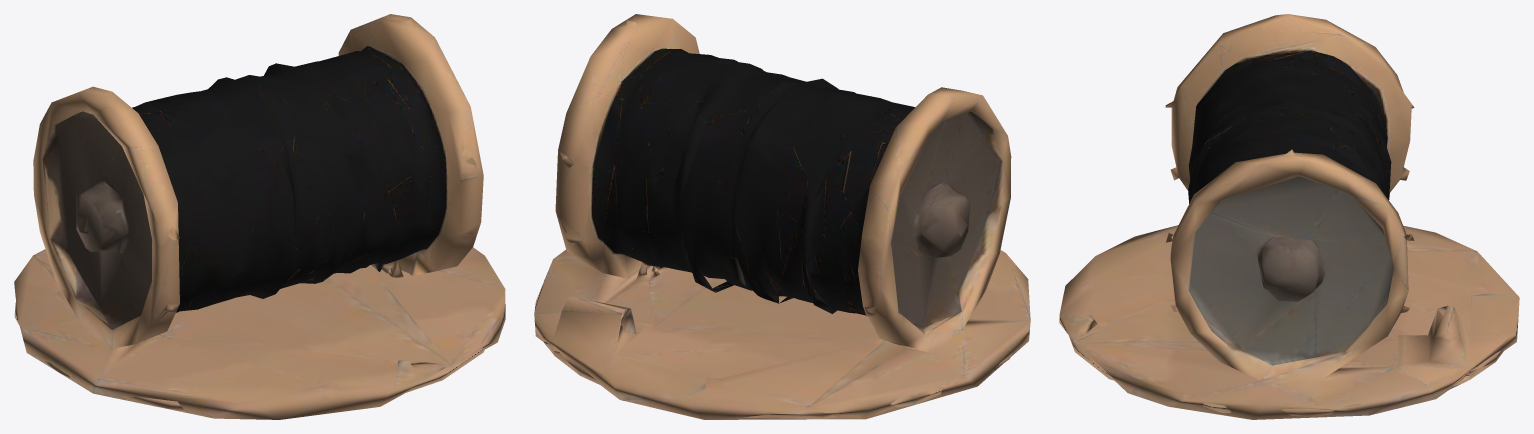
The picture shows the model from 3 angles, left to right: view 1: azimuth 30°, elevation 25°; view 2: azimuth 150°, elevation 25°; view 3: azimuth 270°, elevation 25°; orthographic projection. The views are drawn at different scales.
Size of the model in its own units: 1.89 by 1.09 by 1.89.
1 material, 1 textured.
